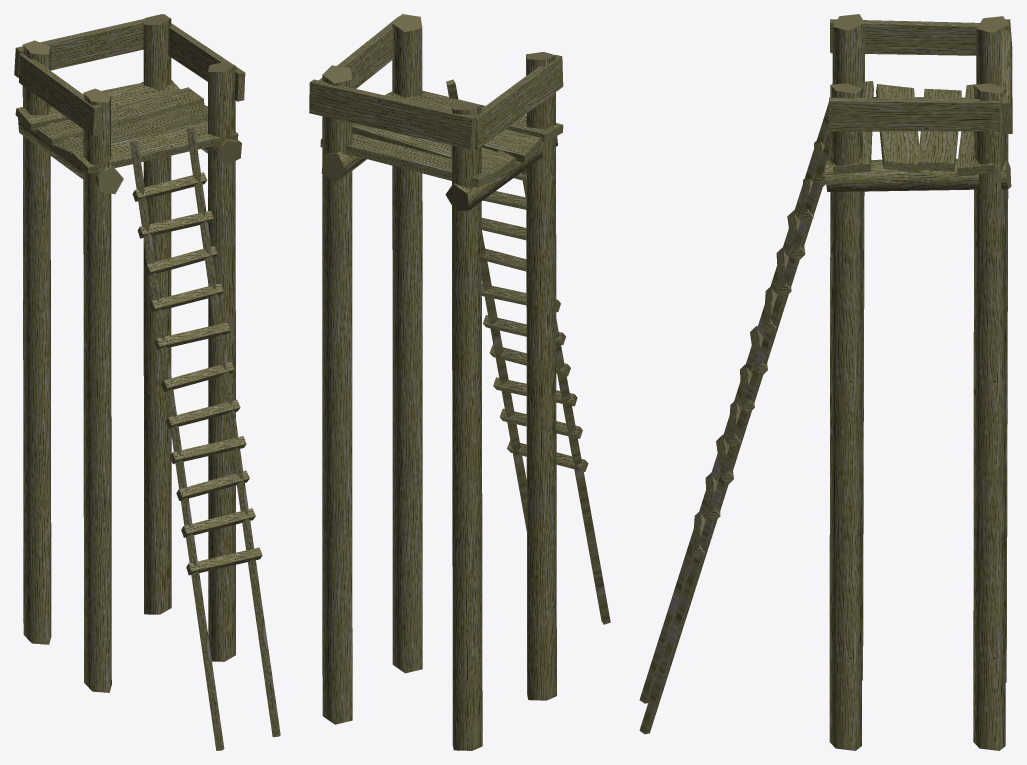
The model's file is stance.obj.
3 views of the same model, side by side, from view 1: azimuth 30°, elevation 25°; view 2: azimuth 150°, elevation 25°; view 3: azimuth 270°, elevation 25° (orthographic). The views are drawn at different scales.
Visible parts, largest first — view 1: Duplicate01, Duplicate02, Duplicate08, Duplicate09, Duplicate04, Box01, Duplicate10, Duplicate06, Duplicate07, Duplicate03, Duplicate05, Cylinder02; view 2: Duplicate01, Duplicate02, Duplicate06, Duplicate08, Duplicate07, Duplicate09, Box01, Duplicate04, Duplicate10, Duplicate03, Cylinder02; view 3: Duplicate01, Duplicate02, Duplicate04, Duplicate03, Cylinder02, Box01, Duplicate09, Duplicate08, Duplicate10, Duplicate06, Duplicate07.
Part boxes in pixels (x1,y1,x2,y2): Duplicate01: [18, 14, 171, 692]; Duplicate02: [19, 54, 235, 661]; Duplicate08: [36, 87, 234, 392]; Duplicate09: [53, 103, 249, 500]; Duplicate04: [186, 127, 280, 737]; Box01: [130, 141, 224, 750]; Duplicate10: [71, 121, 262, 575]; Duplicate06: [14, 14, 213, 238]; Duplicate07: [15, 80, 217, 276]; Duplicate03: [168, 23, 245, 101]; Duplicate05: [132, 172, 207, 201]; Cylinder02: [141, 82, 241, 165]; Duplicate01: [322, 52, 557, 750]; Duplicate02: [392, 14, 563, 673]; Duplicate06: [309, 79, 526, 180]; Duplicate08: [352, 123, 560, 311]; Duplicate07: [320, 133, 526, 209]; Duplicate09: [482, 129, 577, 406]; Box01: [522, 169, 610, 624]; Duplicate04: [446, 79, 526, 531]; Duplicate10: [385, 90, 588, 471]; Duplicate03: [319, 16, 399, 88]; Cylinder02: [321, 135, 366, 183]; Duplicate01: [828, 14, 1008, 750]; Duplicate02: [829, 19, 979, 750]; Duplicate04: [639, 131, 830, 734]; Duplicate03: [829, 97, 1000, 131]; Cylinder02: [824, 157, 1011, 191]; Box01: [639, 102, 829, 703]; Duplicate09: [716, 84, 920, 484]; Duplicate08: [750, 88, 961, 376]; Duplicate10: [692, 81, 873, 560]; Duplicate06: [800, 19, 1012, 224]; Duplicate07: [787, 84, 994, 260].
Size of the model in its own units: 48.58 by 179 by 90.84.
